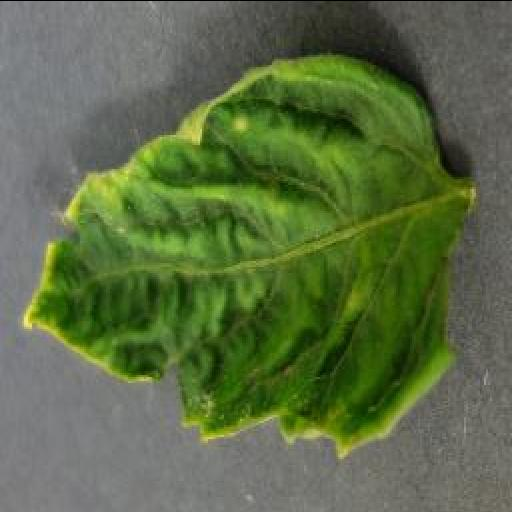disease_tomato: (19, 46, 457, 452)
